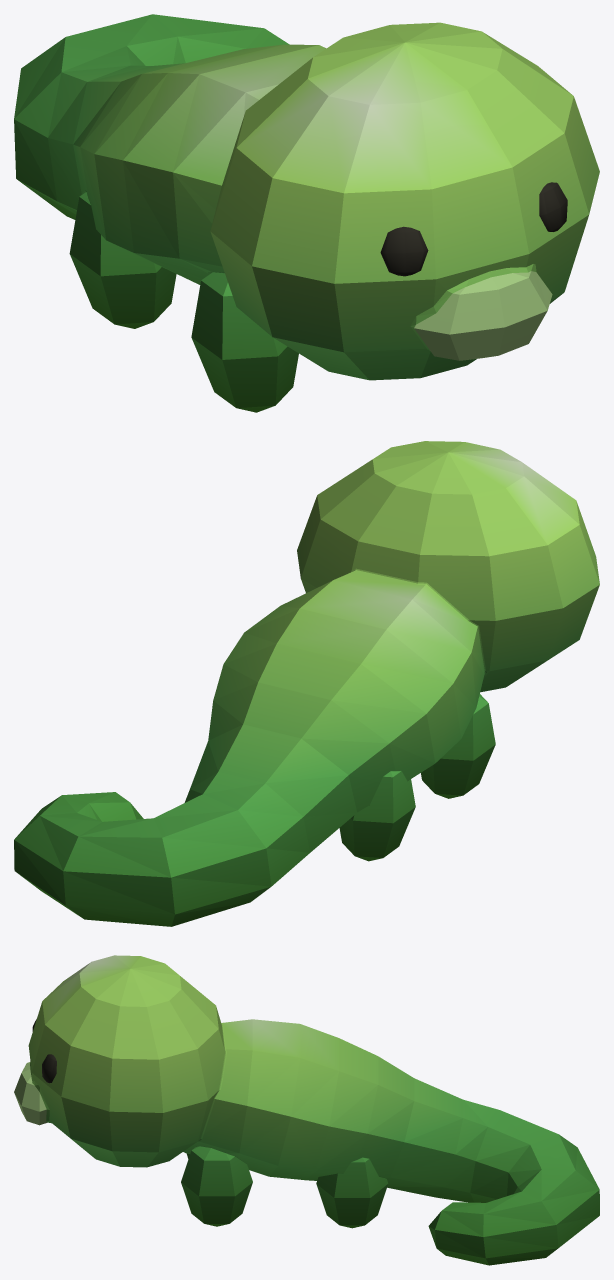
The model's file is Goo_Gecko.glb.
3 renders of one model, top to bottom at view 1: azimuth 30°, elevation 25°; view 2: azimuth 150°, elevation 25°; view 3: azimuth 270°, elevation 25°, orthographic. The views are drawn at different scales.
Visible parts, largest first — view 1: Hunt_Goo_Gecko; view 2: Hunt_Goo_Gecko; view 3: Hunt_Goo_Gecko.
Boxes of the visible parts, left/top/right/bottom form: Hunt_Goo_Gecko: left=14, top=14, right=599, bottom=412; Hunt_Goo_Gecko: left=14, top=441, right=599, bottom=926; Hunt_Goo_Gecko: left=14, top=955, right=599, bottom=1265.
Size of the model in its own units: 0.3947 by 0.3475 by 0.7795.
